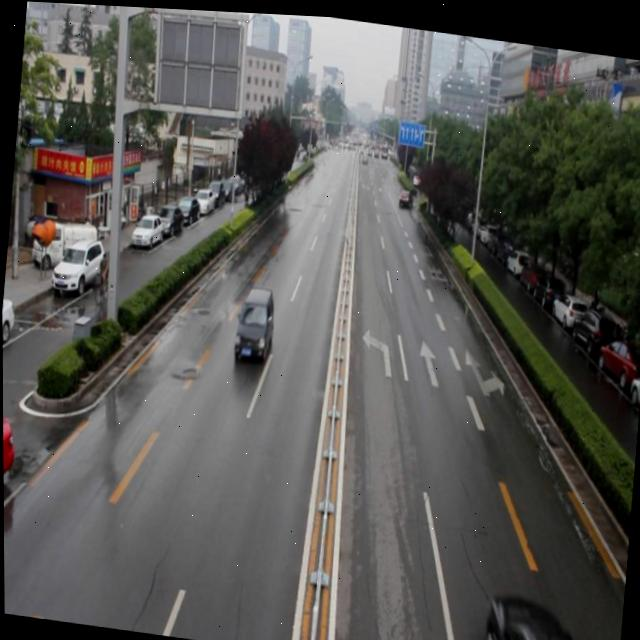car: (478, 585, 610, 640), (2, 408, 19, 501), (395, 184, 413, 204)
truck: (231, 281, 277, 367)
